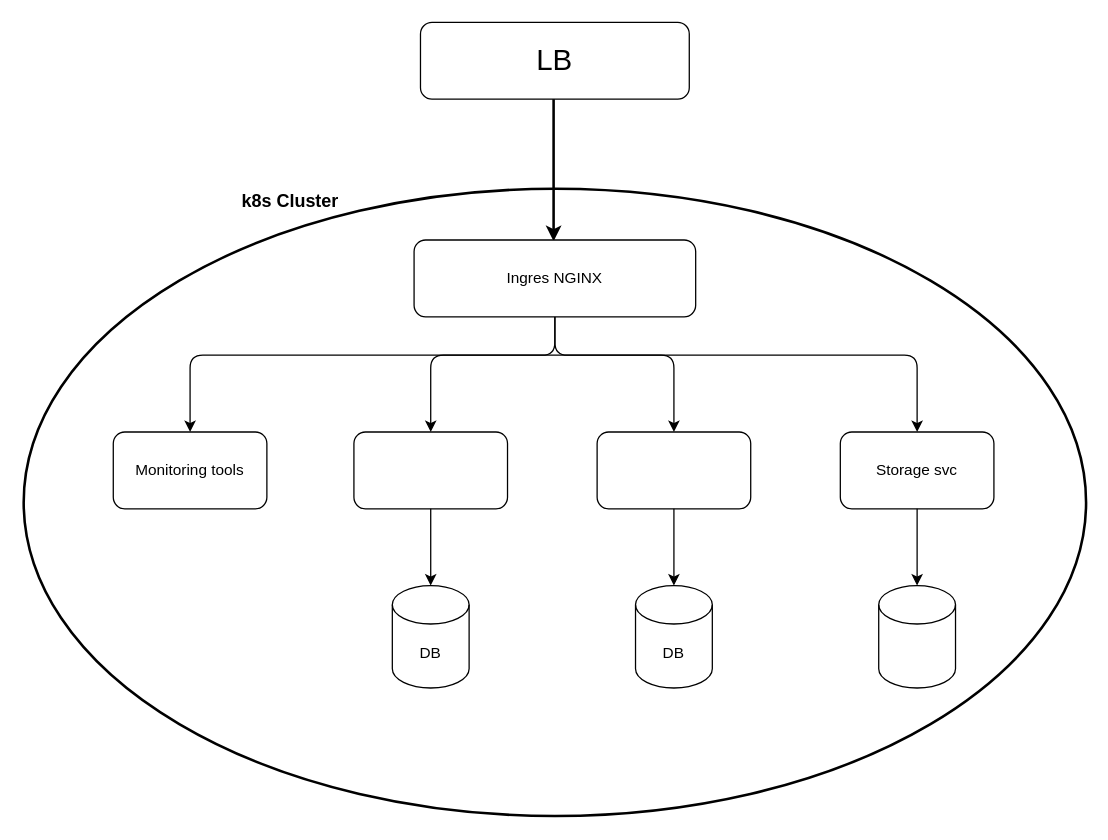
Image size: 1108x840. Some labels were removed from this diagram. The shapes that lost their labels are listed below. From the top down, each one's centre as x and y in pixels, then its label:
At point 430,470: "auth svc".
At point 673,470: "API svc".
At point 916,636: "MinIO".
